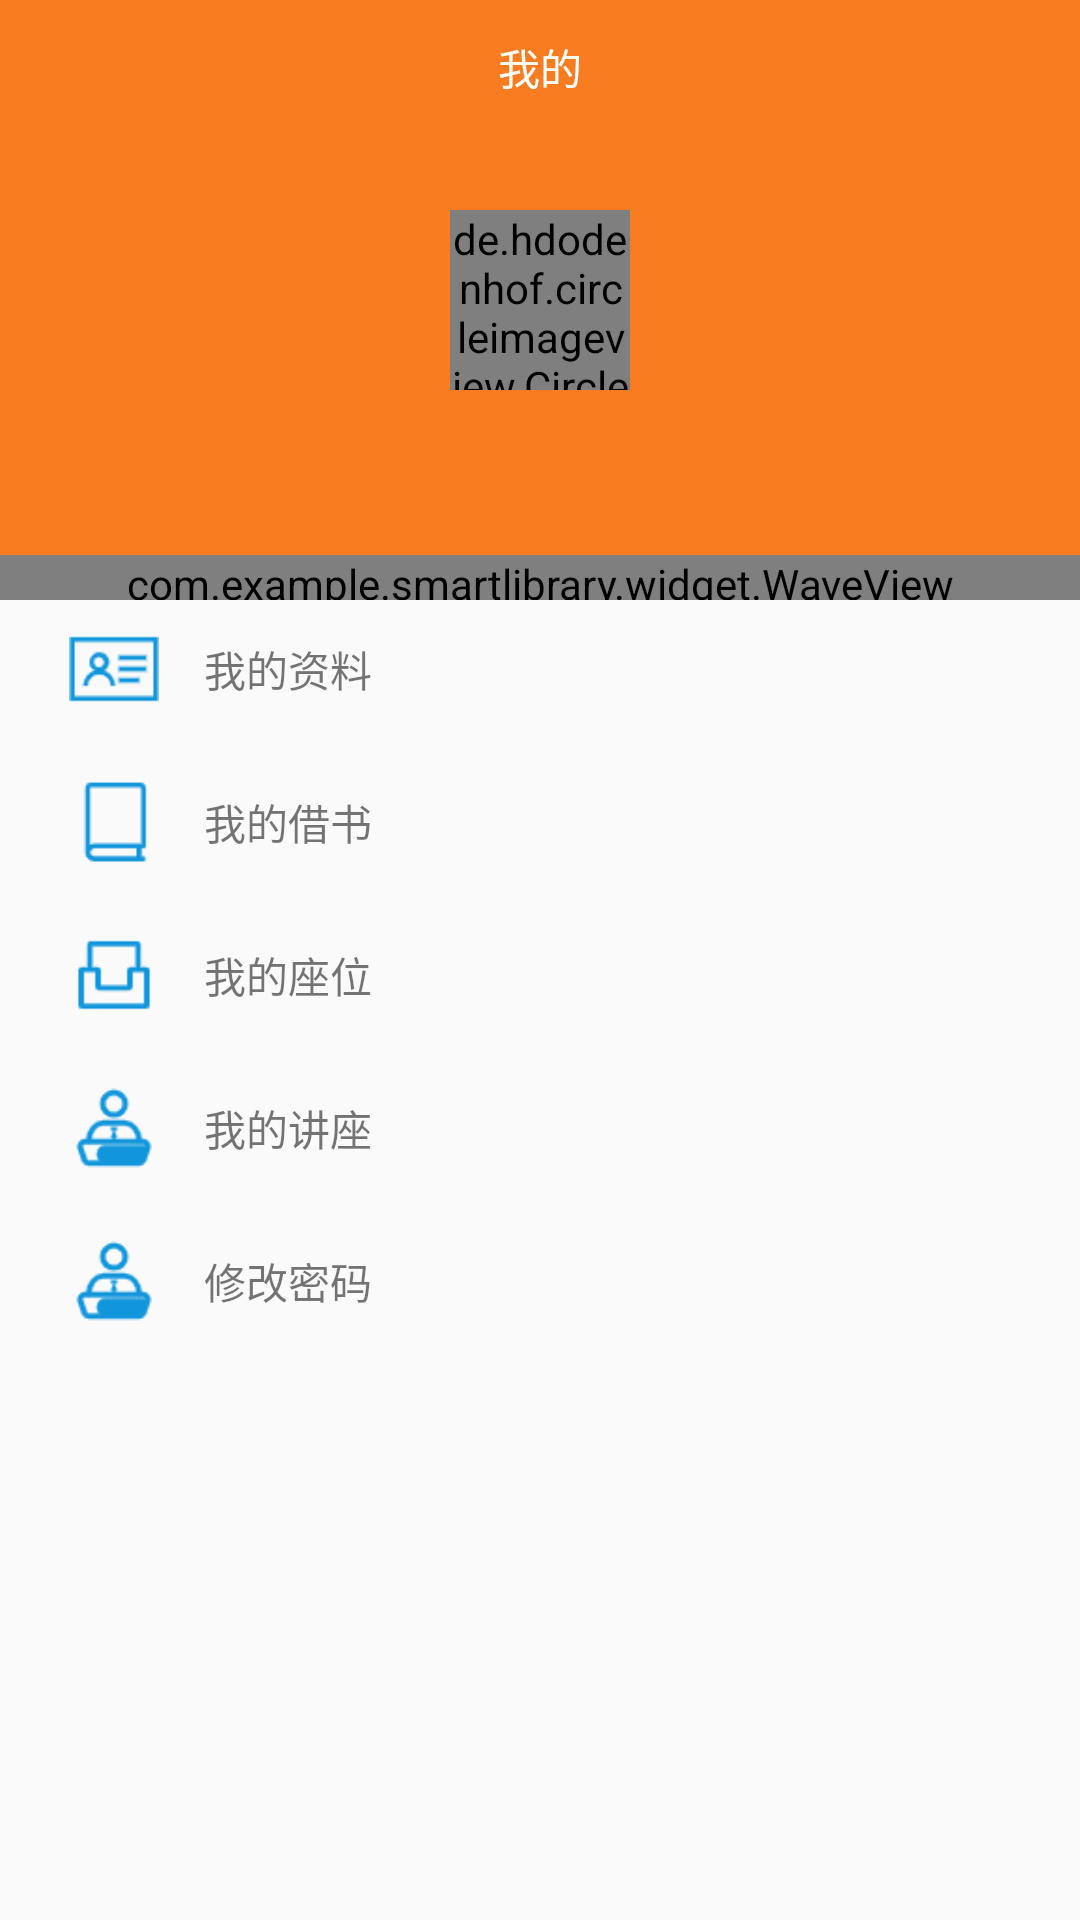

Named icons in this screenshot (1080px x 1920px) and their centers, (x=x, y=y):
book info: (x=115, y=822)
lecture info: (x=114, y=1128), (x=114, y=1281)
seat info: (x=114, y=975)
user info: (x=114, y=669)
